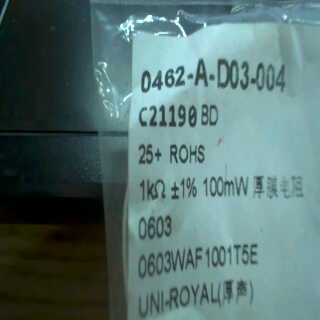1kR: (138, 177, 167, 204)
